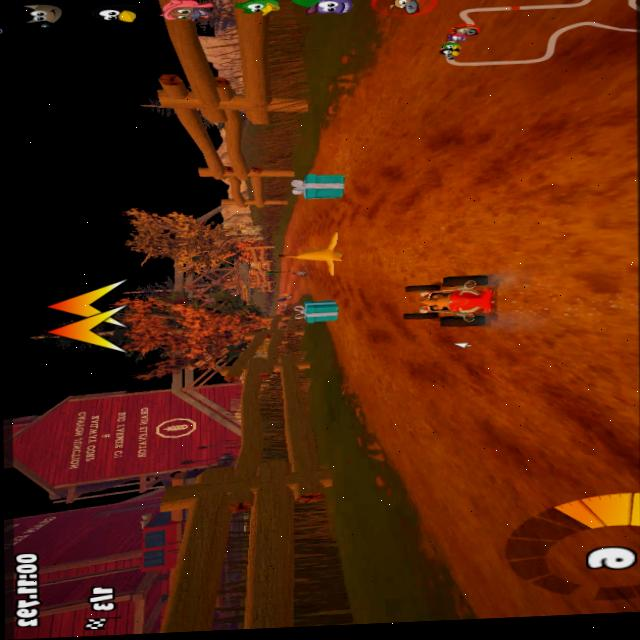bonus: (285, 167, 350, 202), (294, 297, 346, 326)
nitro: (271, 294, 287, 306)
obstacle: (281, 227, 355, 271)
player_kart: (400, 268, 497, 330)
track: (402, 0, 640, 269), (399, 323, 640, 480), (452, 468, 636, 618), (361, 35, 403, 447), (500, 261, 640, 327), (409, 479, 456, 550), (276, 270, 363, 299), (322, 114, 359, 167), (331, 328, 360, 385), (296, 203, 360, 227)
